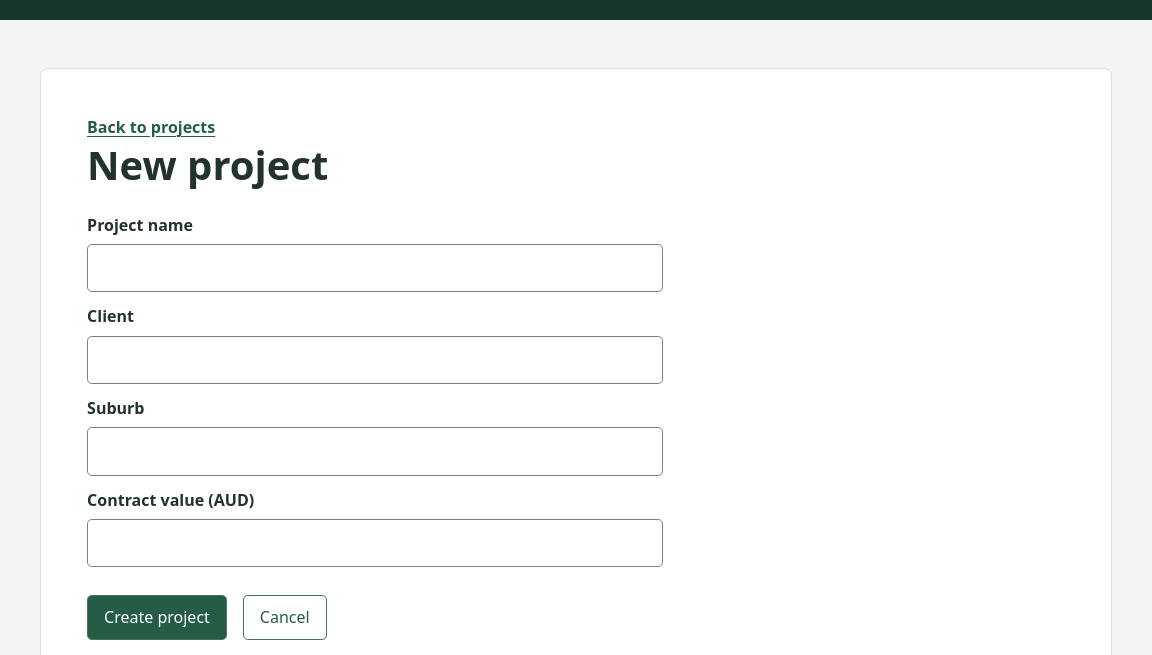
Test case: Projects frontend › shows backend create validation errors and preserves input
Type "Fictional Wattle House" into the field labelled "Project name" at (375, 268), box top-left (87, 244), bottom-right (663, 292)
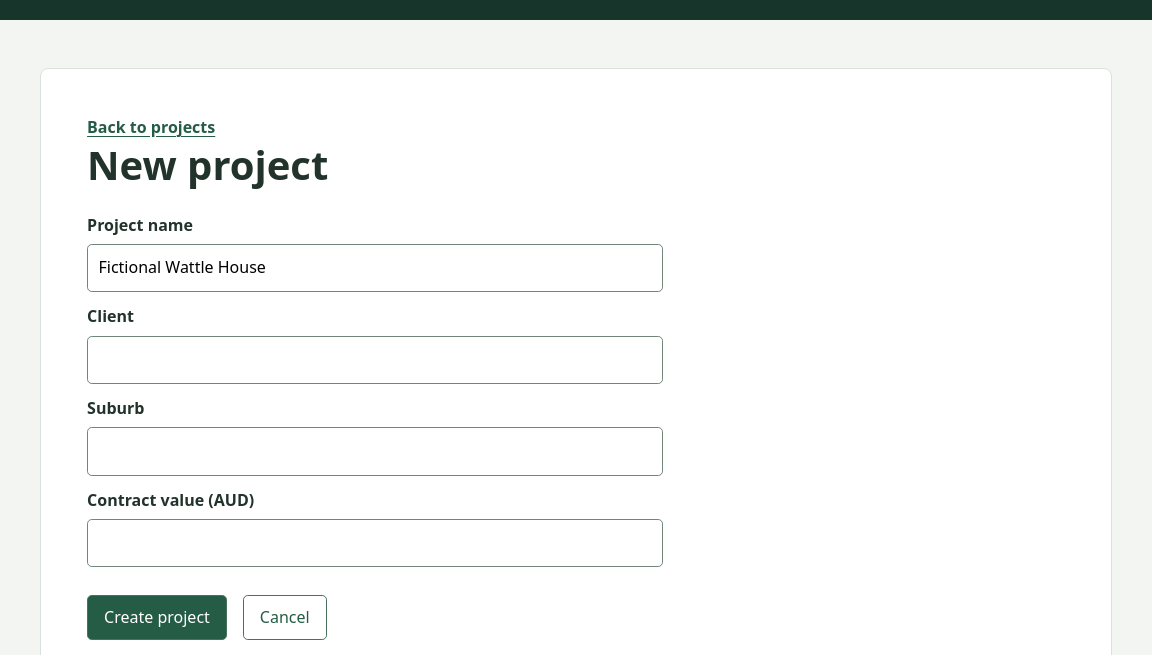
Type "Fictional Client" into the field labelled "Client" at (375, 360), box top-left (87, 336), bottom-right (663, 384)
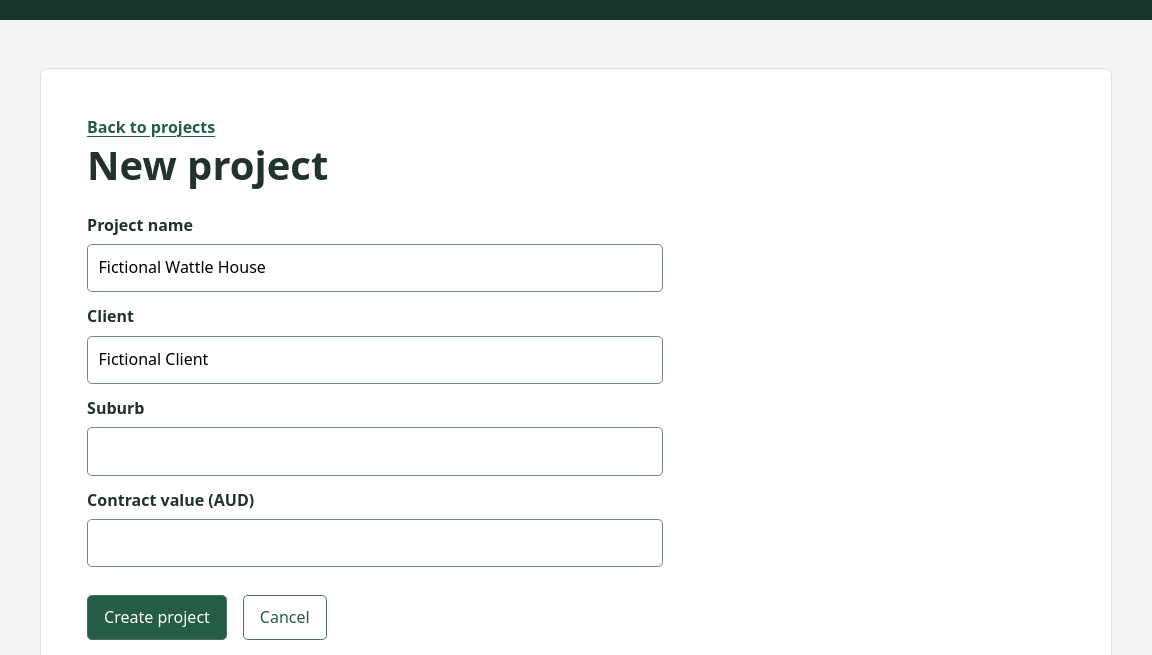
Type "Bendigo" into the field labelled "Suburb" at (375, 451), box top-left (87, 427), bottom-right (663, 476)
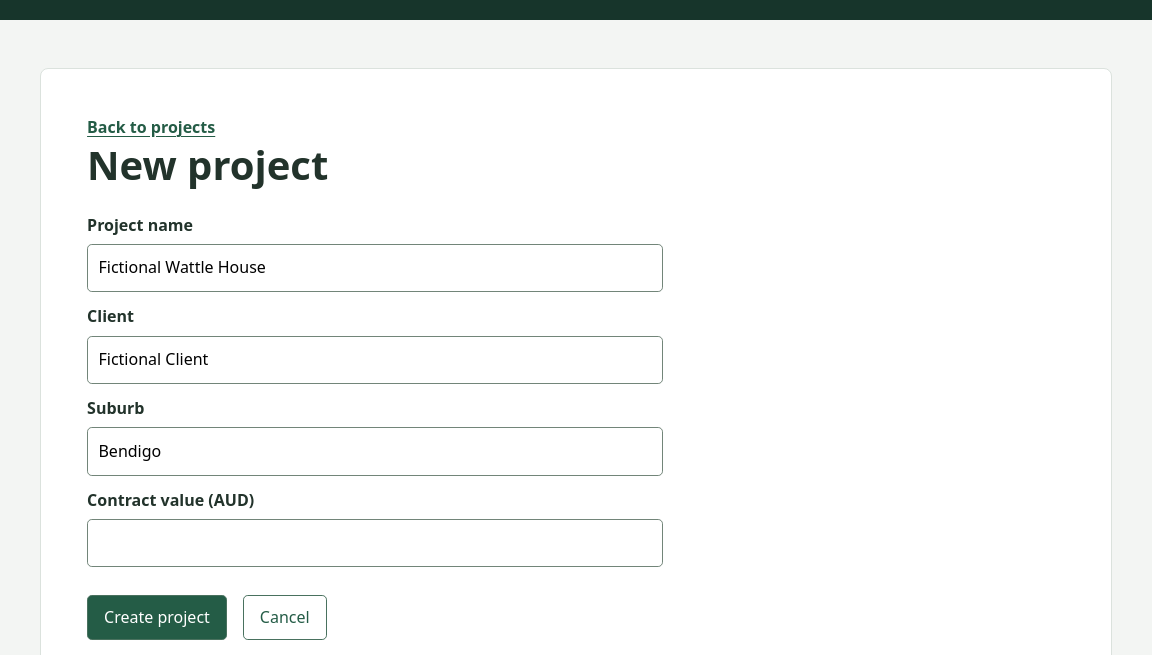
Type "100000.20" into the field labelled "Contract value (AUD)" at (375, 543), box top-left (87, 519), bottom-right (663, 567)
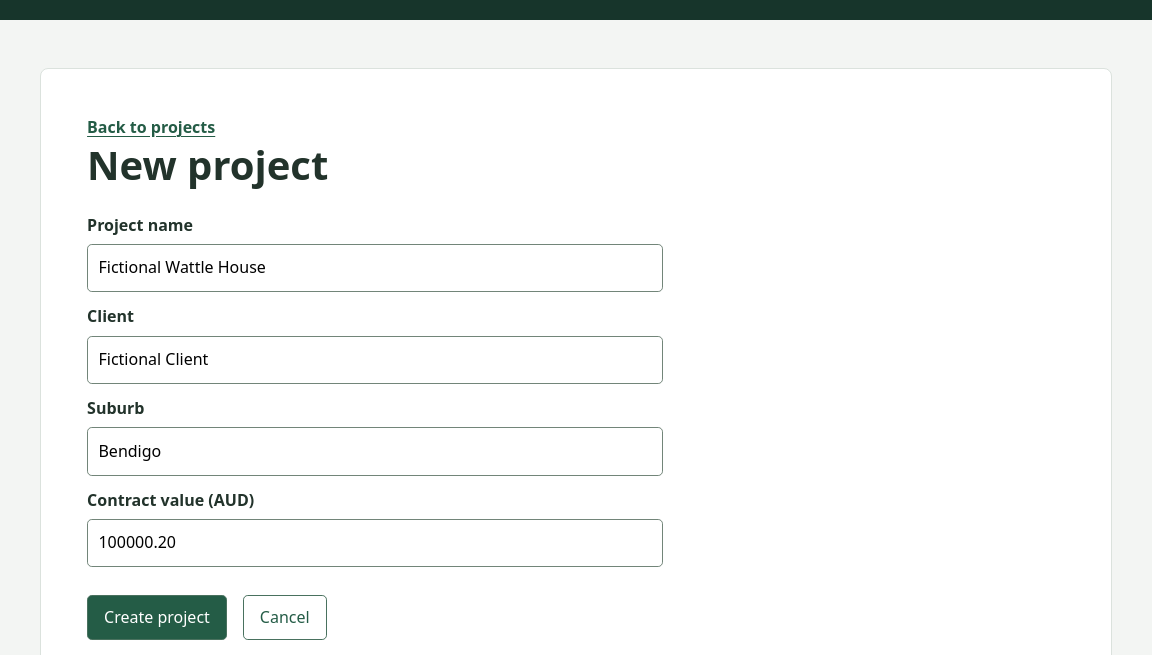
Click the button "Create project" at (157, 618), box top-left (87, 595), bottom-right (227, 640)
(page scrolled)
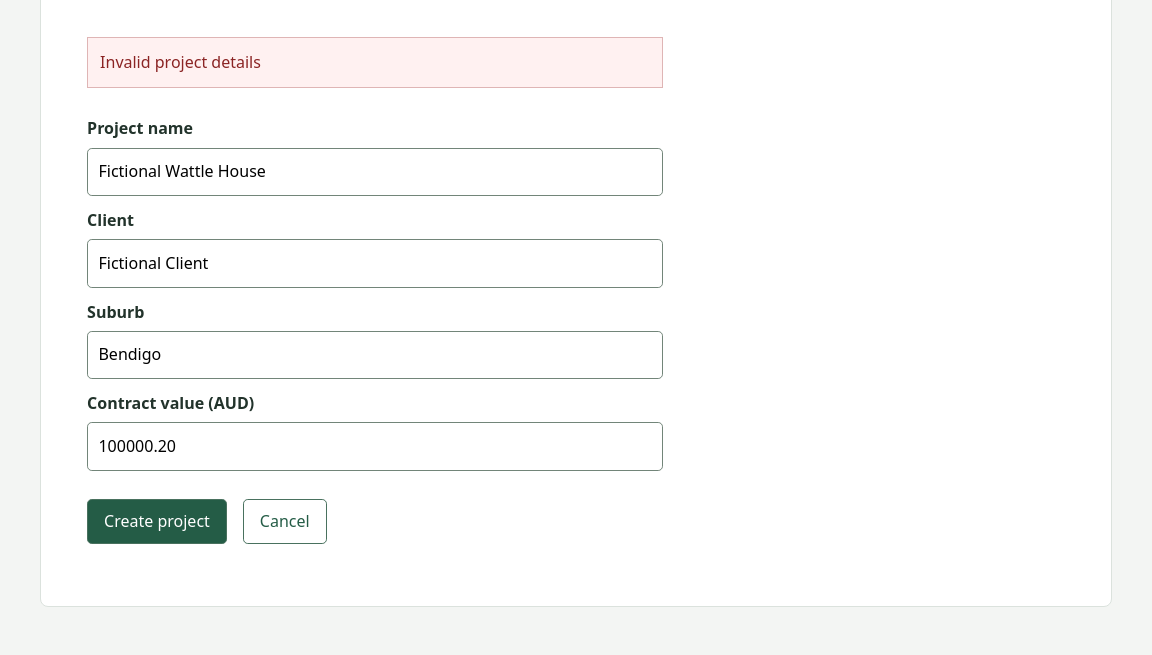
Expected: the button "Create project" is enabled, top-left (87, 499), bottom-right (227, 544)
Now the message reads "Invalid project details", box top-left (100, 51), bottom-right (261, 73)
